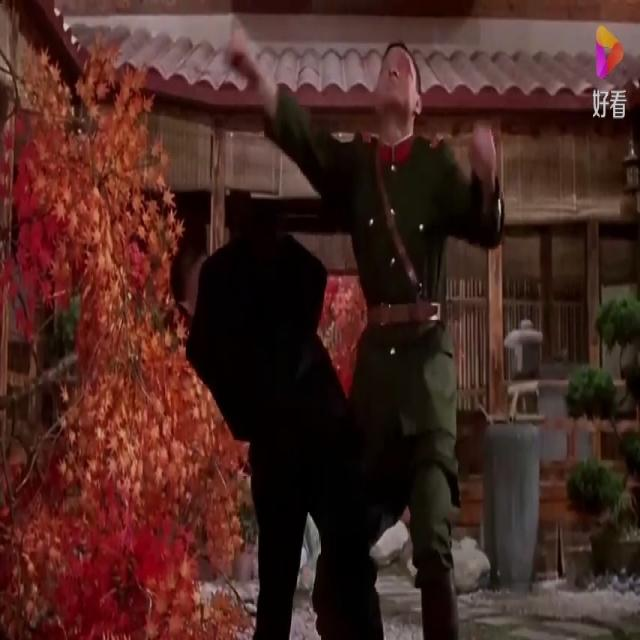fight: (144, 39, 526, 638)
